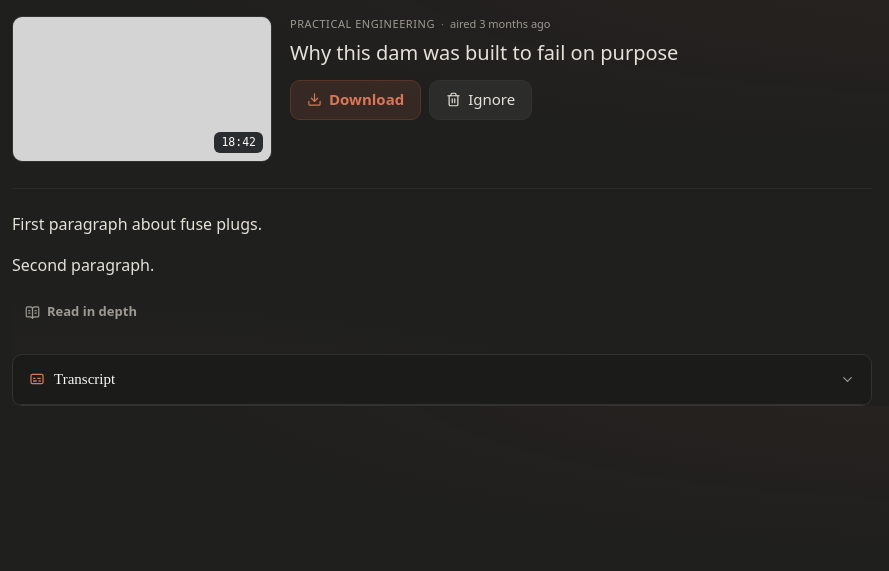
Scenario: UnfetchedVideo › expands the in-depth text in place, and the next video starts shut
The image size is (889, 571).
Expected: the text "Lead." is not shown
Click the button "Read in depth" at x=81, y=312, box 12,296 -> 150,328
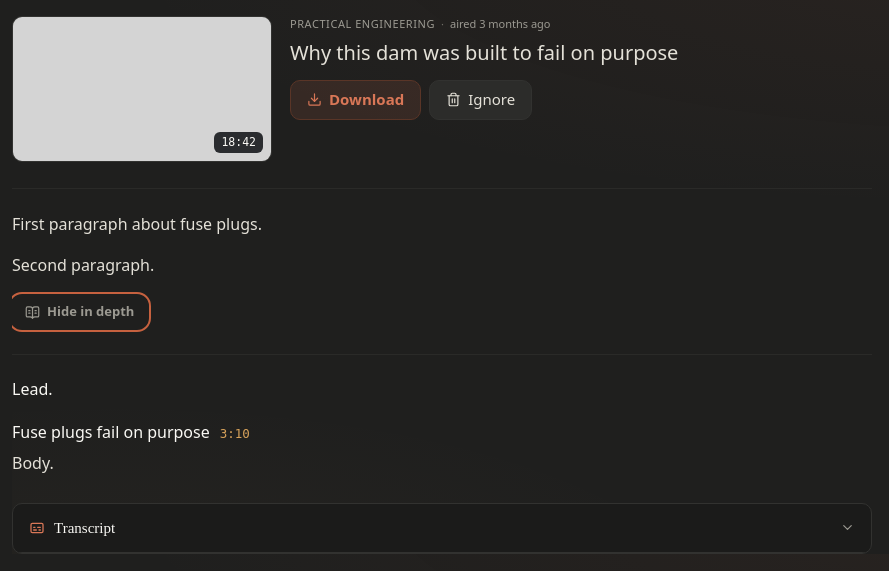
Expected: the text "Lead." is shown, 12,378 -> 52,400
Expected: the button "Hide in depth" is shown, 12,296 -> 147,328
